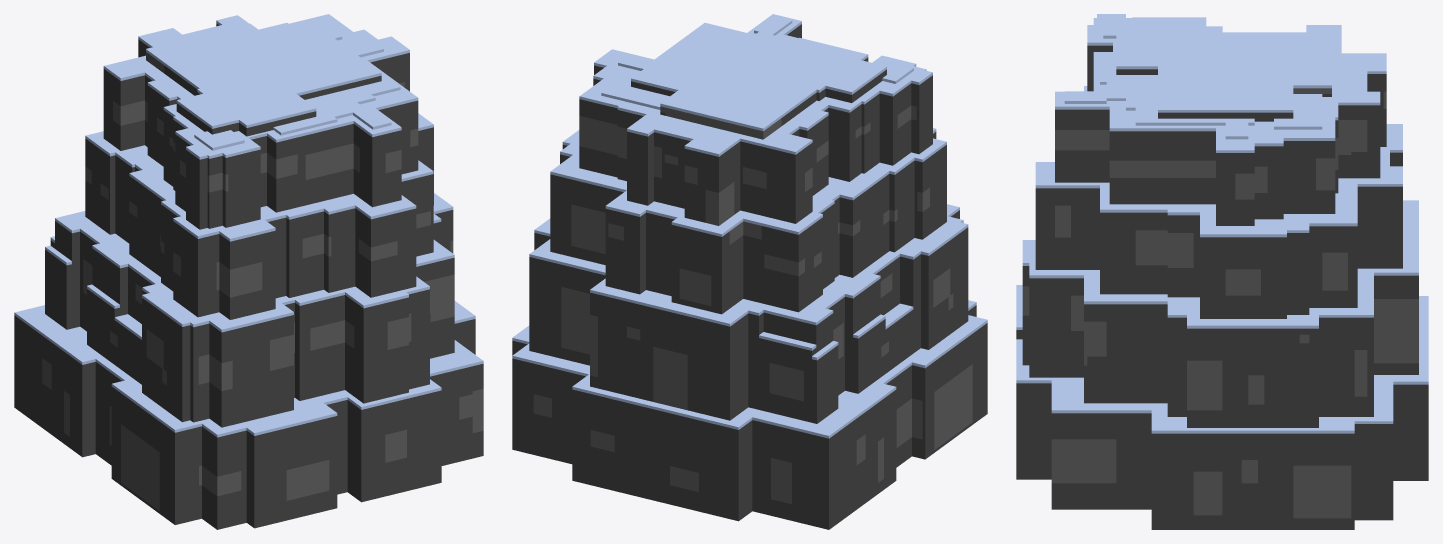
The model's file is big_rock_1.obj.
3 views of the same model, side by side, from view 1: azimuth 30°, elevation 25°; view 2: azimuth 150°, elevation 25°; view 3: azimuth 270°, elevation 25° (orthographic). The views are drawn at different scales.
Bounding box in the file's own units: 12.8 × 12.8 × 12.8.
Materials: 1 (1 with a texture image).
